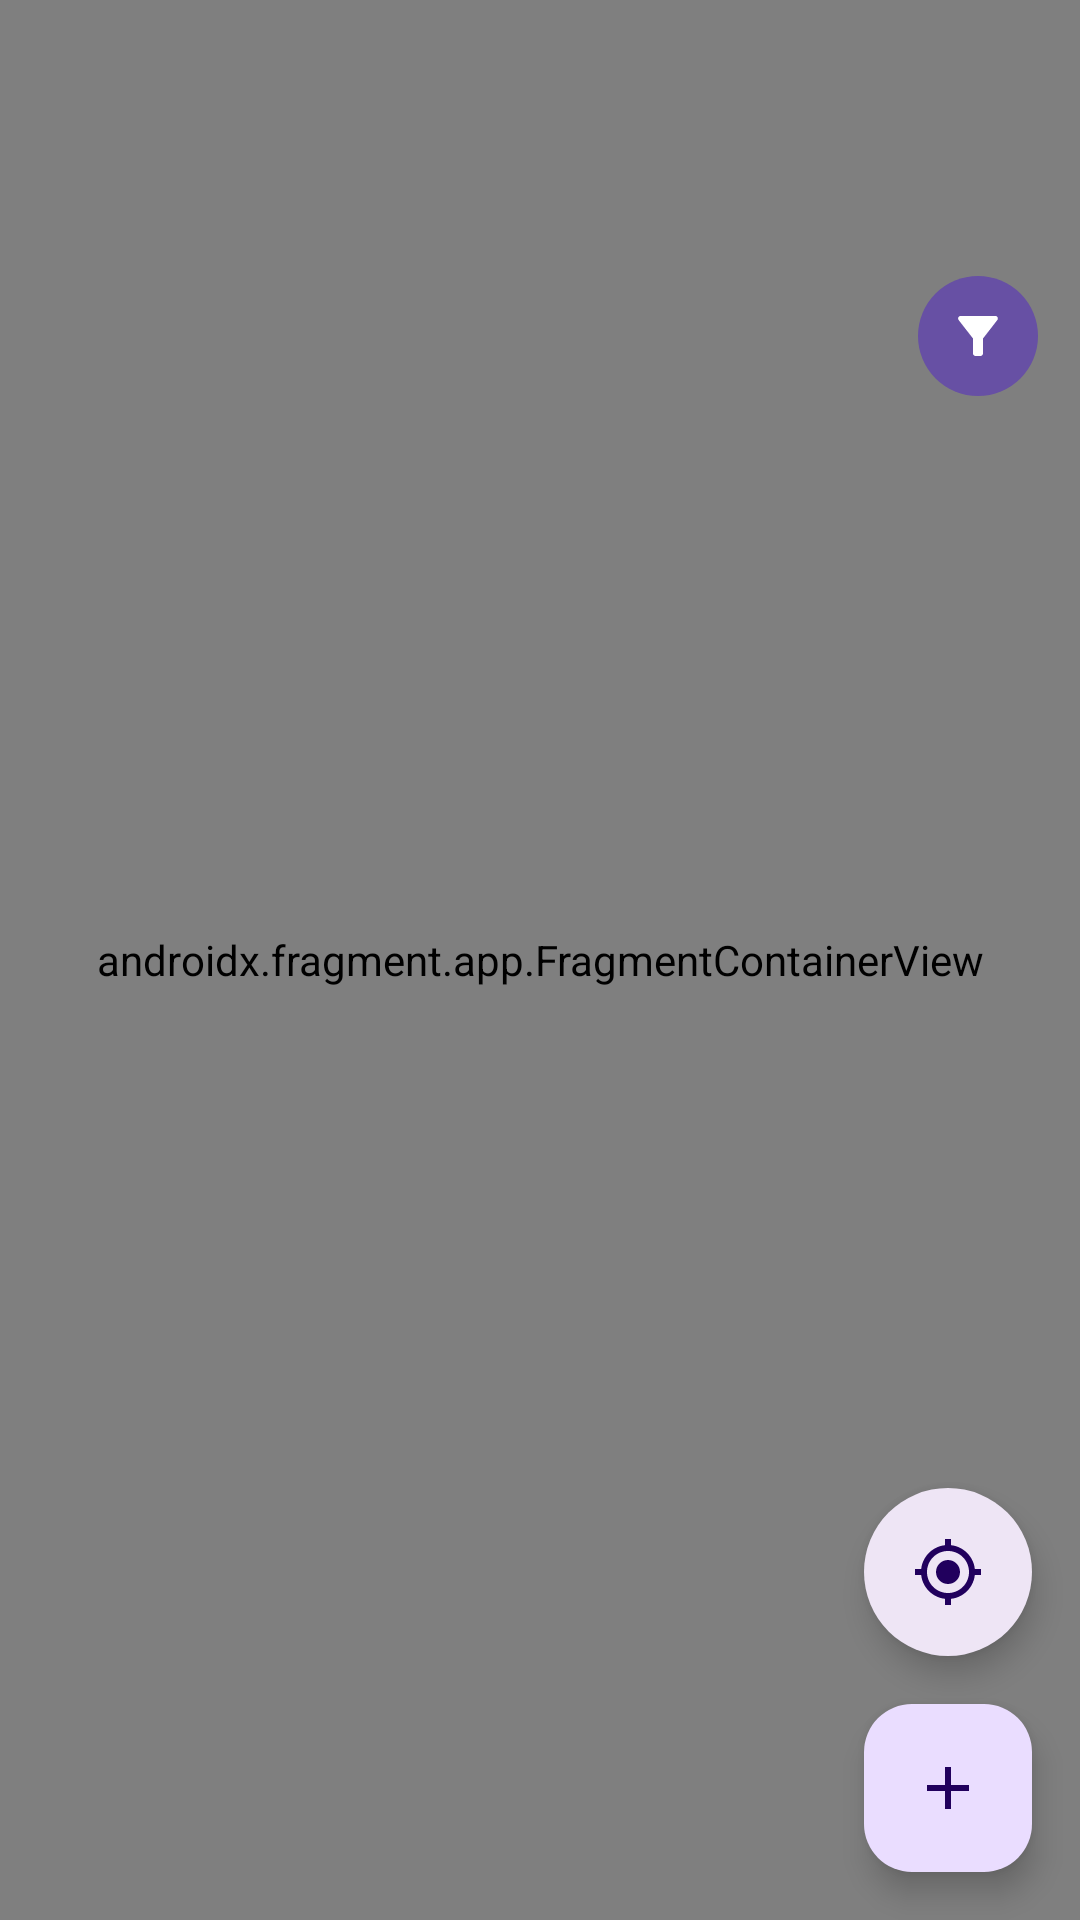

Named icons in this screenshot (1080w x 1920h) and their centers, [x,y]:
add: [948,1788]
filter: [978,336]
location: [948,1572]
